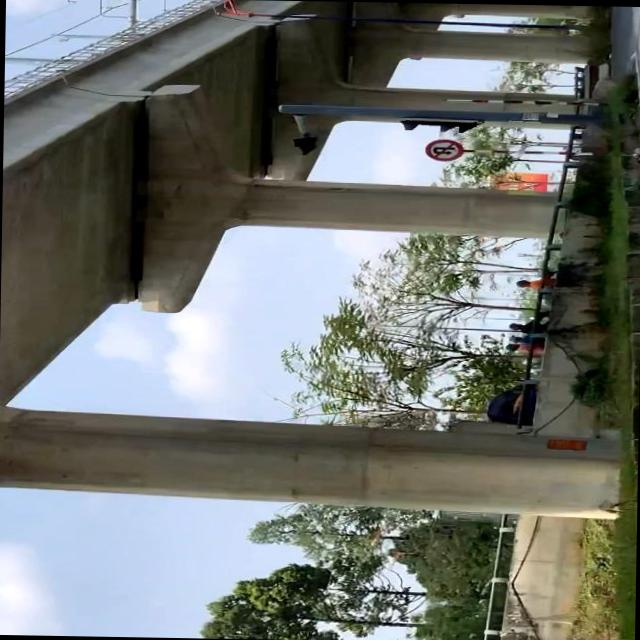P-124a1: (422, 138, 462, 158)
